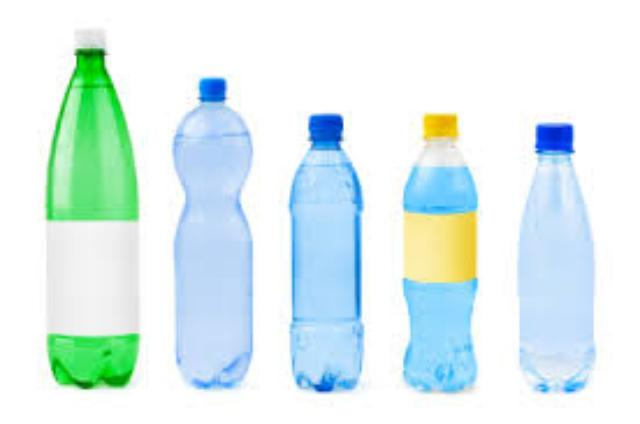plastic: (44, 28, 134, 383), (172, 77, 248, 383), (401, 111, 473, 387), (515, 121, 589, 387), (288, 111, 357, 387)
